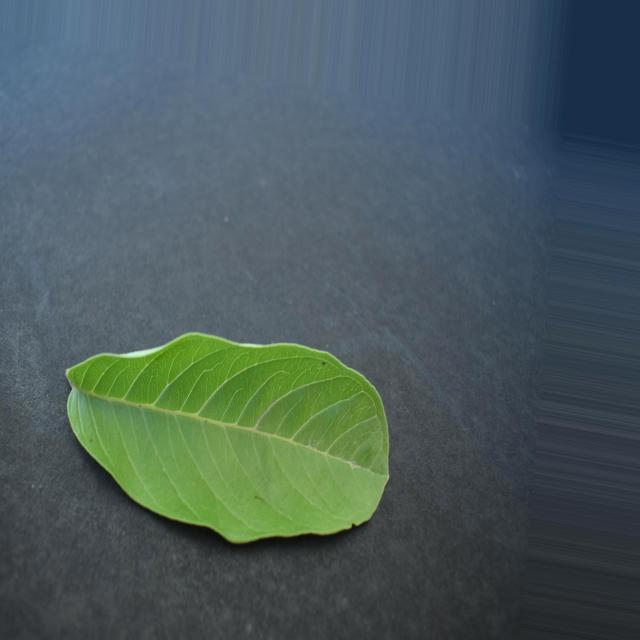Healthy: (66, 334, 389, 544)
